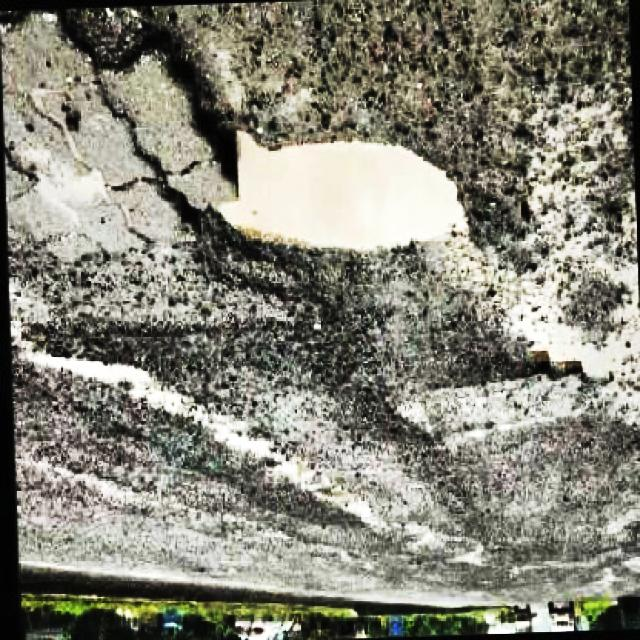pothole: (184, 100, 482, 255), (31, 349, 203, 426), (514, 288, 640, 389), (63, 3, 195, 71)
